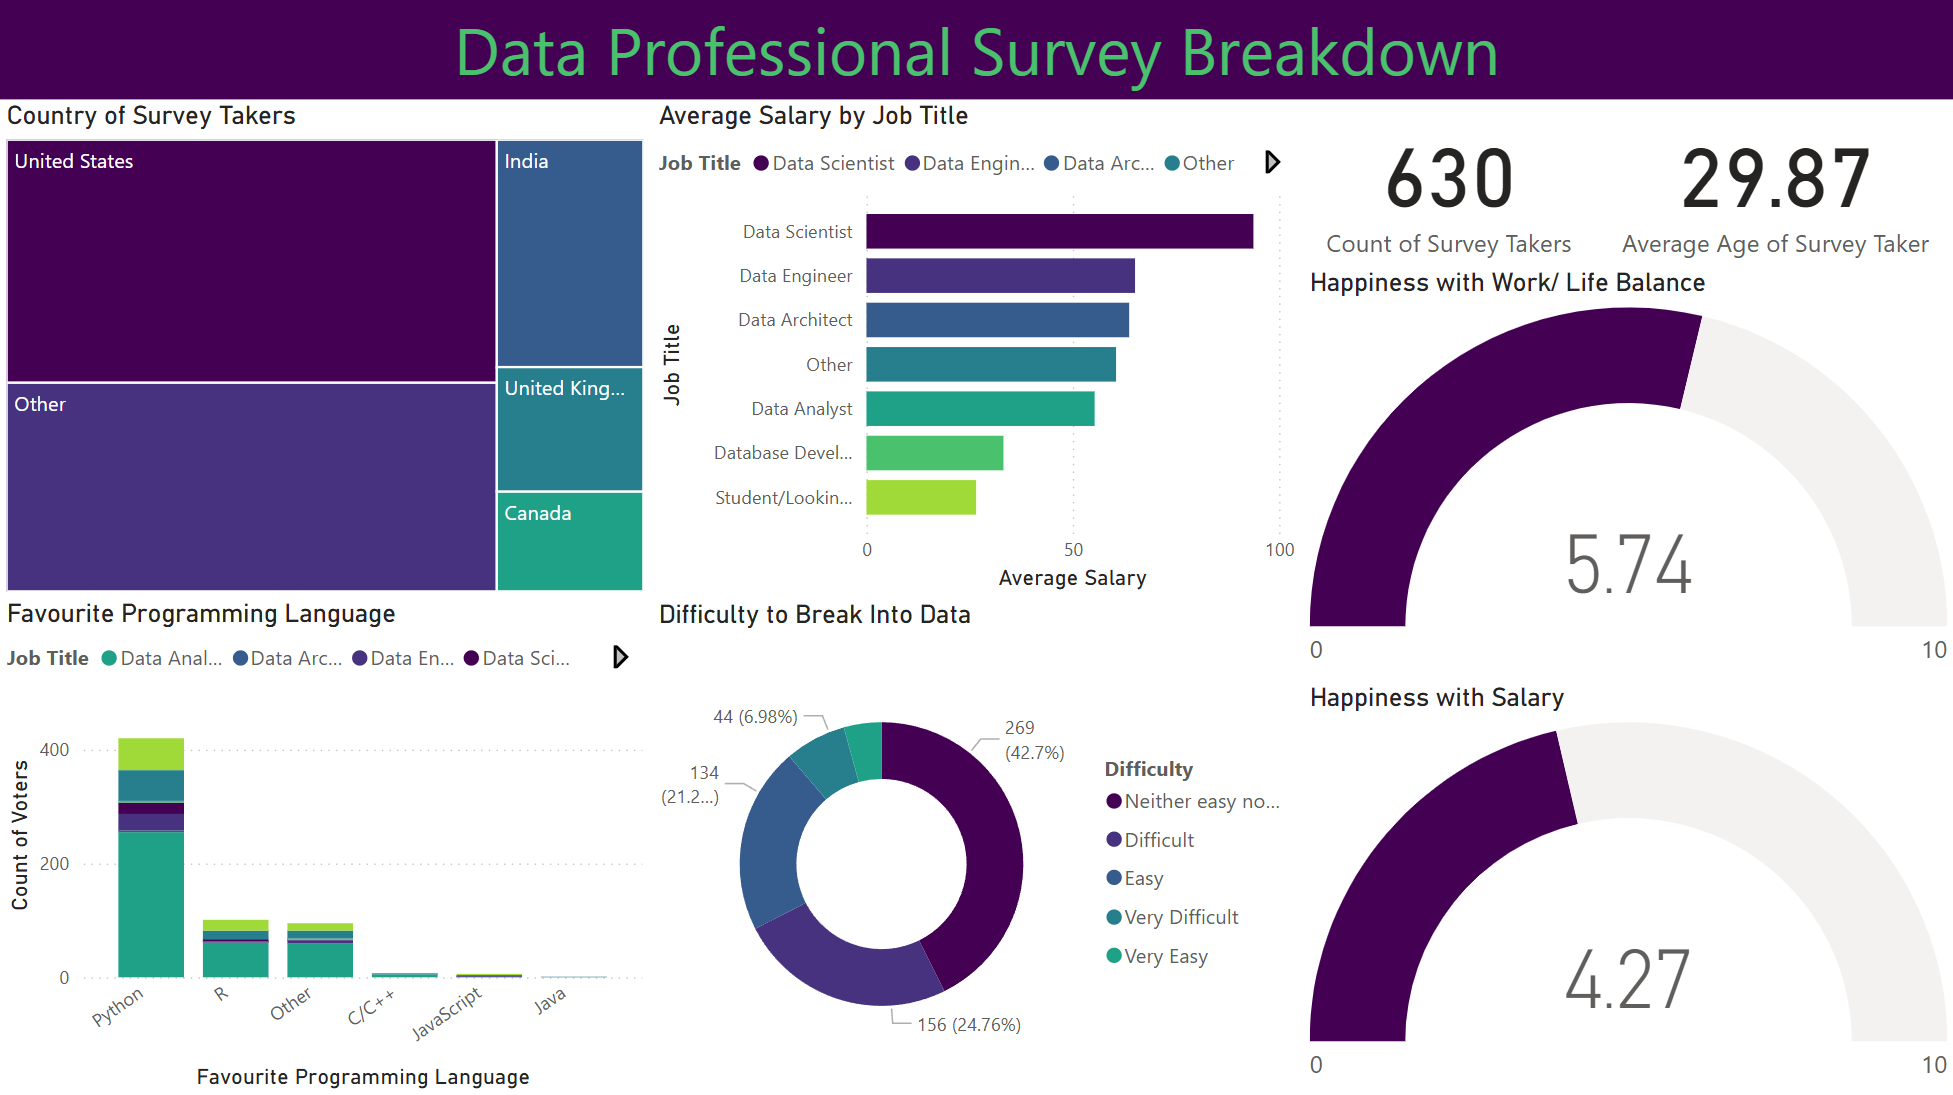

What the dashboard file says about the page in this screenshot:
{"tool":"powerbi","page":{"name":"Page 1","canvas":[1280,720],"ordinal":0},"visuals":[{"type":"textbox","box":[0,0,1280,67.4],"z":0},{"type":"card","fields":{"Values":["CountNonNull(Data Professional Survey.Unique ID)"]},"box":[852.7,67.4,192.4,109.3],"z":1000},{"type":"card","fields":{"Values":["Avg(Data Professional Survey.Q10 - Current Age)"]},"box":[1045.1,67.4,234.9,109.3],"z":2000},{"type":"barChart","title":"Average Salary by Job Title","fields":{"Category":["Data Professional Survey.Q1 - Which Title Best Fits your Current Role?.1"],"Y":["Avg(Data Professional Survey.Average Salary)"],"Series":["Data Professional Survey.Q1 - Which Title Best Fits your Current Role?.1"]},"box":[426.7,67.4,426,325.9],"z":3000},{"type":"columnChart","title":"Favourite Programming Language","fields":{"Category":["Data Professional Survey.Q5 - Favorite Programming Language.1"],"Y":["CountNonNull(Data Professional Survey.Unique ID)"],"Series":["Data Professional Survey.Q1 - Which Title Best Fits your Current Role?.1"]},"box":[0,393.3,426,326.5],"z":4000},{"type":"treemap","title":"Country of Survey Takers","fields":{"Group":["Data Professional Survey.Q11 - Which Country do you live in?.1"],"Values":["CountNonNull(Data Professional Survey.Q11 - Which Country do you live in?.1)"]},"box":[0,67.4,426.7,326.5],"z":5000},{"type":"gauge","title":"Happiness with Salary","fields":{"Y":["Avg(Data Professional Survey.Q6 - How Happy are you in your Current Position with the following? (Salary))"],"MinValue":["Min(Data Professional Survey.Q6 - How Happy are you in your Current Position with the following? (Salary))"],"MaxValue":["Max(Data Professional Survey.Q6 - How Happy are you in your Current Position with the following? (Salary))"]},"box":[852.7,448.3,427.3,271.6],"z":6000},{"type":"gauge","title":"Happiness with Work/ Life Balance","fields":{"Y":["Avg(Data Professional Survey.Q6 - How Happy are you in your Current Position with the following? (Work/Life Balance))"],"MinValue":["Min(Data Professional Survey.Q6 - How Happy are you in your Current Position with the following? (Work/Life Balance))"],"MaxValue":["Max(Data Professional Survey.Q6 - How Happy are you in your Current Position with the following? (Work/Life Balance))1"]},"box":[852.7,176.7,427.3,271.6],"z":7000},{"type":"donutChart","title":"Difficulty to Break Into Data","fields":{"Y":["CountNonNull(Data Professional Survey.Q7 - How difficult was it for you to break into Data?)"],"Category":["Data Professional Survey.Q7 - How difficult was it for you to break into Data?"]},"box":[426.7,393.9,426.7,325.9],"z":8000}]}

Visuals, with their boxes in screenshot pixels (x1, y1, x2, y2), scaled from the page's 1280x720 canvas onto the 1953x1095 screenshot:
textbox: l=0, t=0, r=1952, b=103
card - CountNonNull(Data Professional Survey.Unique ID): l=1301, t=103, r=1595, b=269
card - Avg(Data Professional Survey.Q10 - Current Age): l=1595, t=103, r=1952, b=269
"Average Salary by Job Title" barChart: l=651, t=103, r=1301, b=598
"Favourite Programming Language" columnChart: l=0, t=598, r=650, b=1094
"Country of Survey Takers" treemap: l=0, t=103, r=651, b=599
"Happiness with Salary" gauge: l=1301, t=682, r=1952, b=1094
"Happiness with Work/ Life Balance" gauge: l=1301, t=269, r=1952, b=682
"Difficulty to Break Into Data" donutChart: l=651, t=599, r=1302, b=1094
